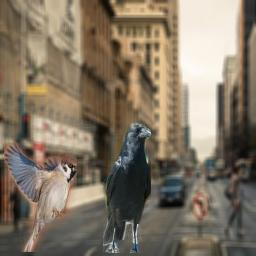Crow: (103, 123, 151, 253)
Sparrow: (4, 142, 77, 252)
